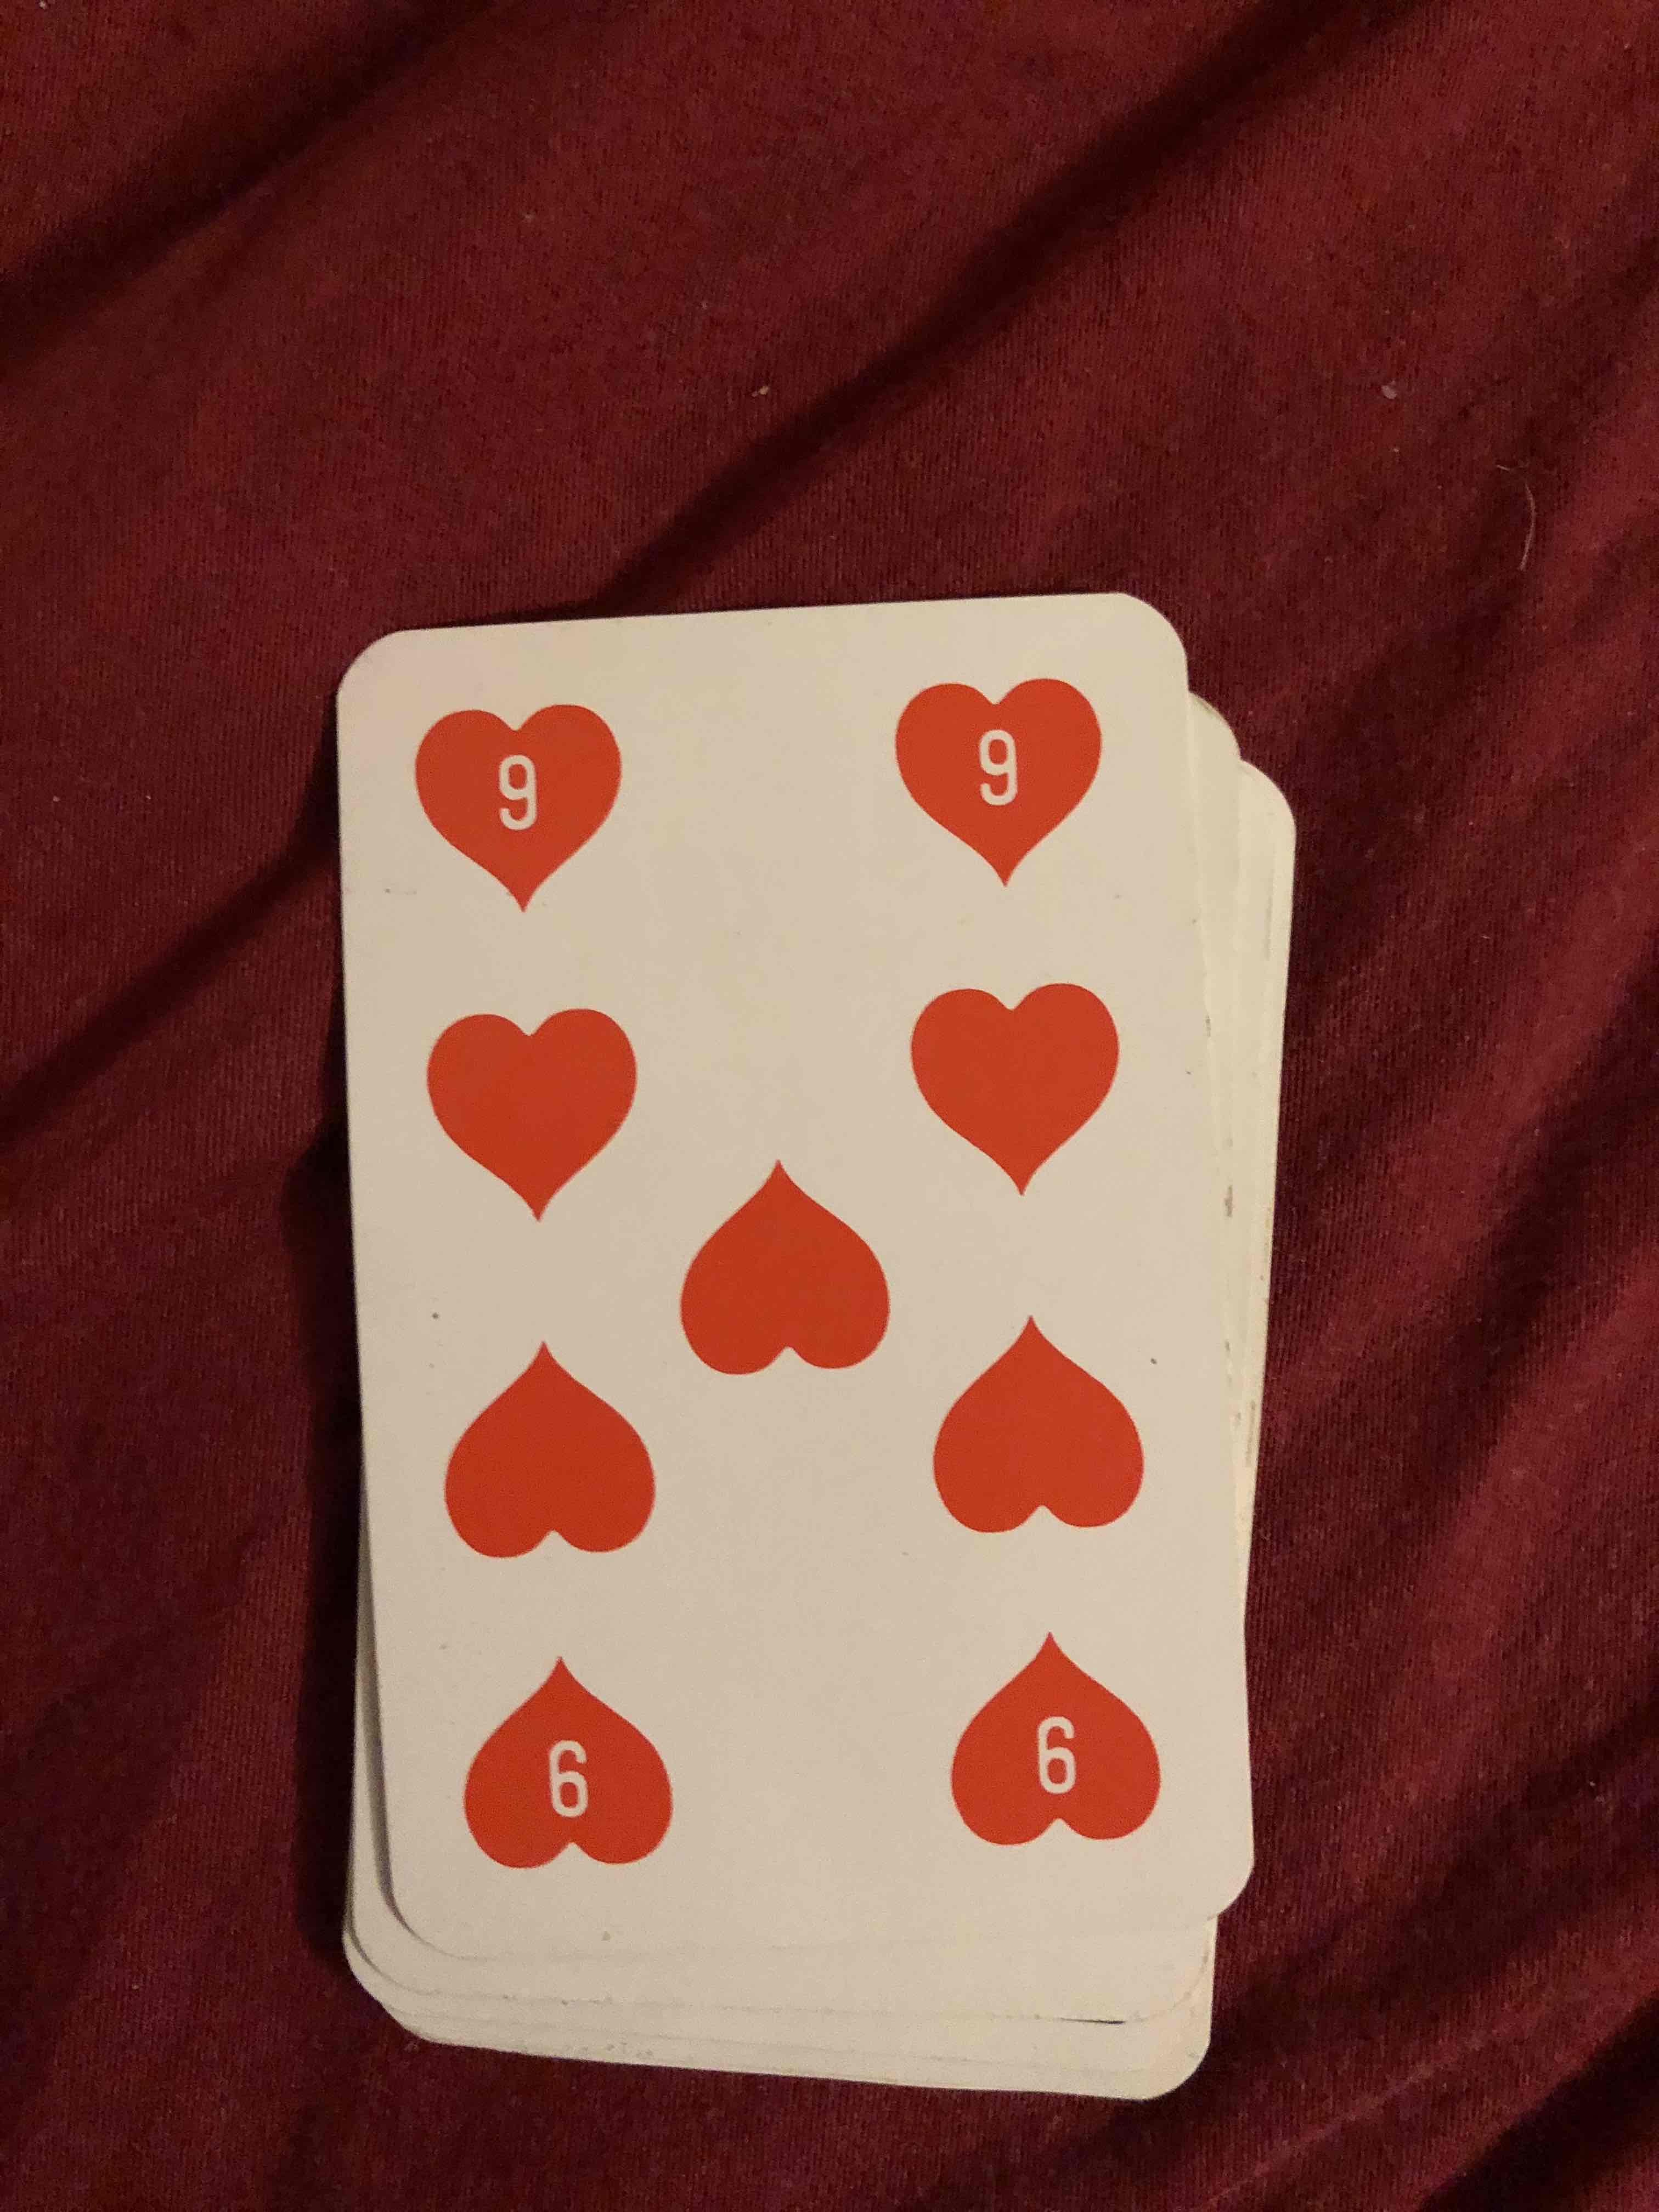hearts9: (347, 629, 1256, 1912)
